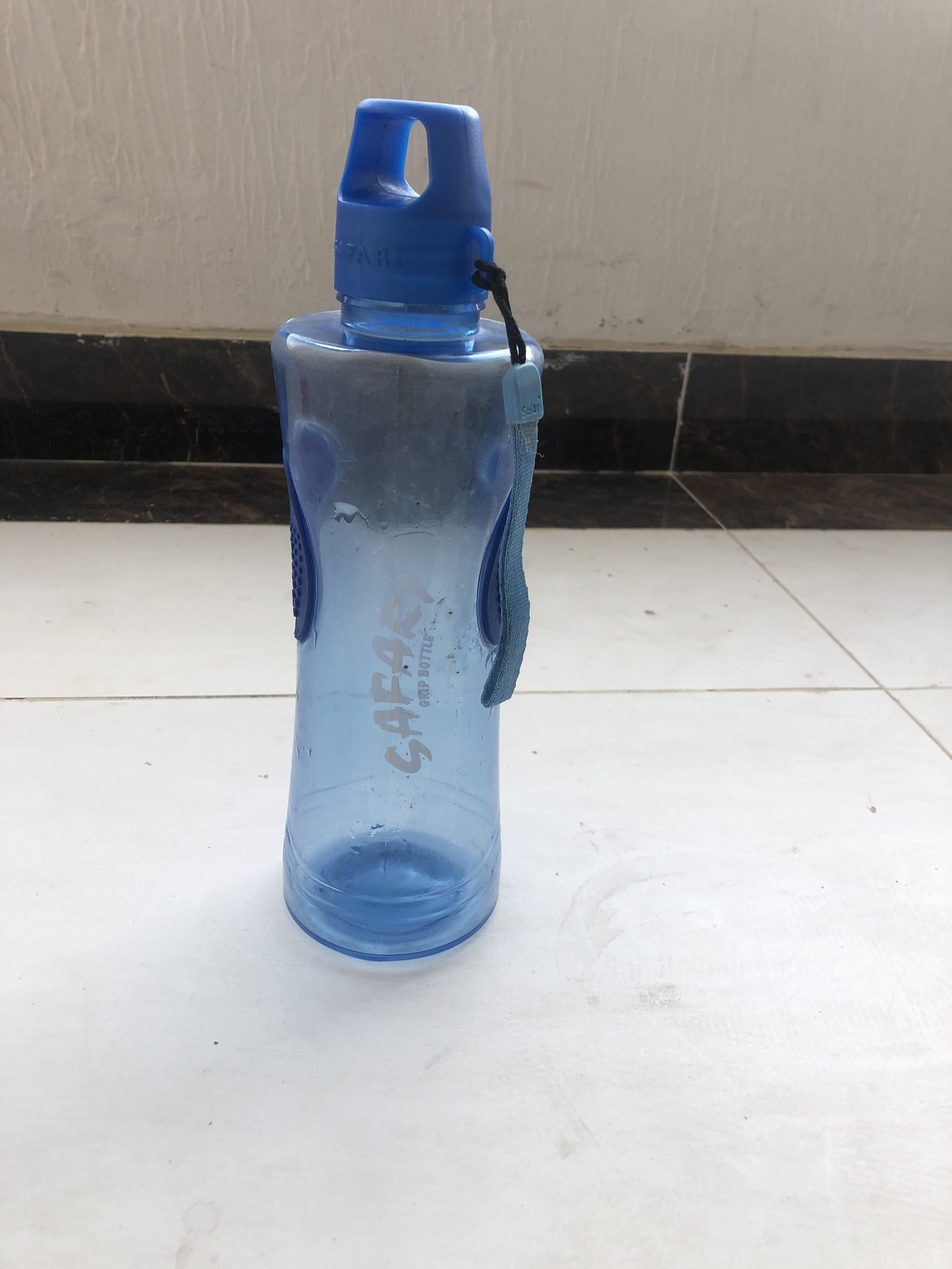gym bottle: (275, 86, 547, 966)
